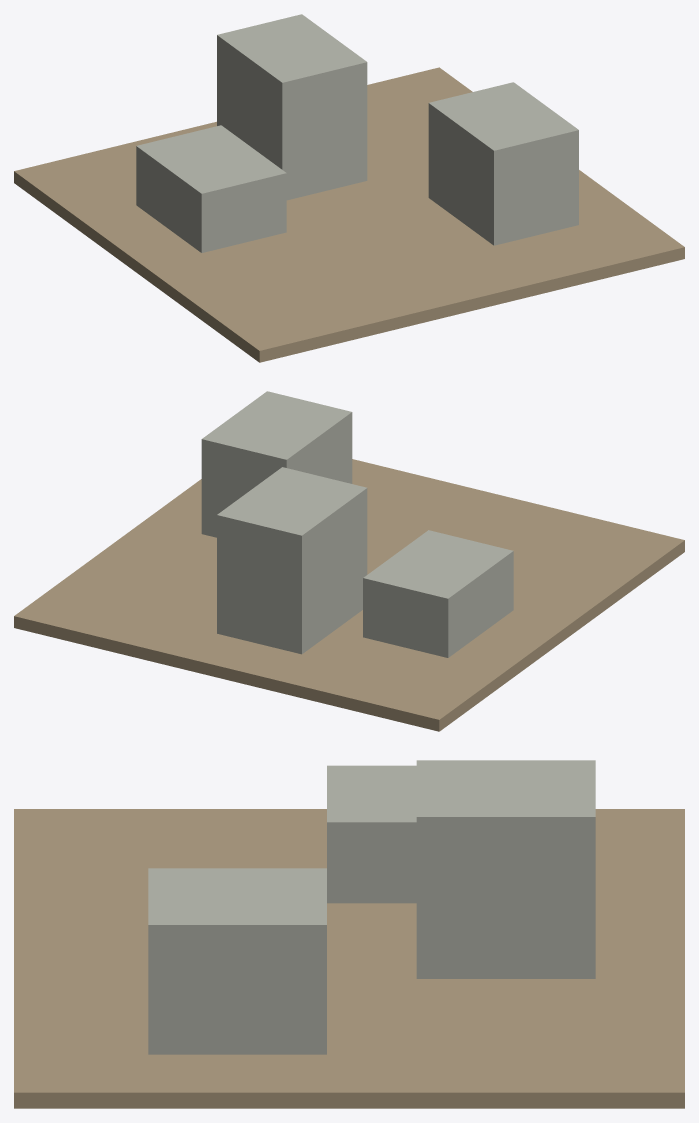
File: demo-rocks.glb
3 views of the same model, one above another, from view 1: azimuth 30°, elevation 25°; view 2: azimuth 150°, elevation 25°; view 3: azimuth 270°, elevation 25° (orthographic). The views are drawn at different scales.
Parts seen in each view (by area): view 1: ground-floor, rock (×3); view 2: ground-floor, rock (×3); view 3: ground-floor, rock (×3).
Boxes of the visible parts, box(x1,y1,x2,y2) form: ground-floor: box(14, 67, 684, 362); rock (×3): box(136, 14, 578, 252); ground-floor: box(14, 459, 684, 731); rock (×3): box(201, 391, 513, 657); ground-floor: box(14, 809, 684, 1108); rock (×3): box(148, 760, 595, 1054).
Size of the model in its own units: 7.5 by 2.2 by 7.5.
